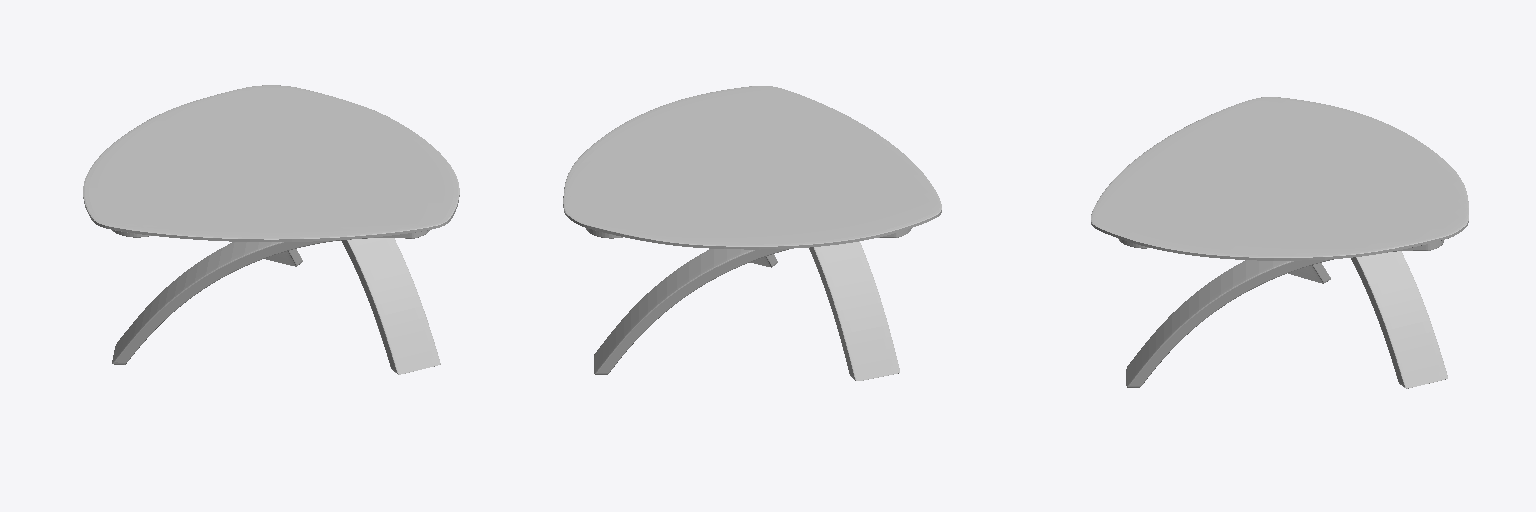
The model's file is Cocktail_Table.obj.
3 views of the same model, side by side, from view 1: azimuth 30°, elevation 25°; view 2: azimuth 150°, elevation 25°; view 3: azimuth 270°, elevation 25° (orthographic).
Visible parts, largest first — view 1: Rectangle01; view 2: Rectangle01; view 3: Rectangle01.
Part boxes in pixels (x1,y1,x2,y2): Rectangle01: (83, 85, 459, 374); Rectangle01: (563, 86, 941, 380); Rectangle01: (1091, 97, 1468, 388).
Size of the model in its own units: 1004 by 460 by 996.